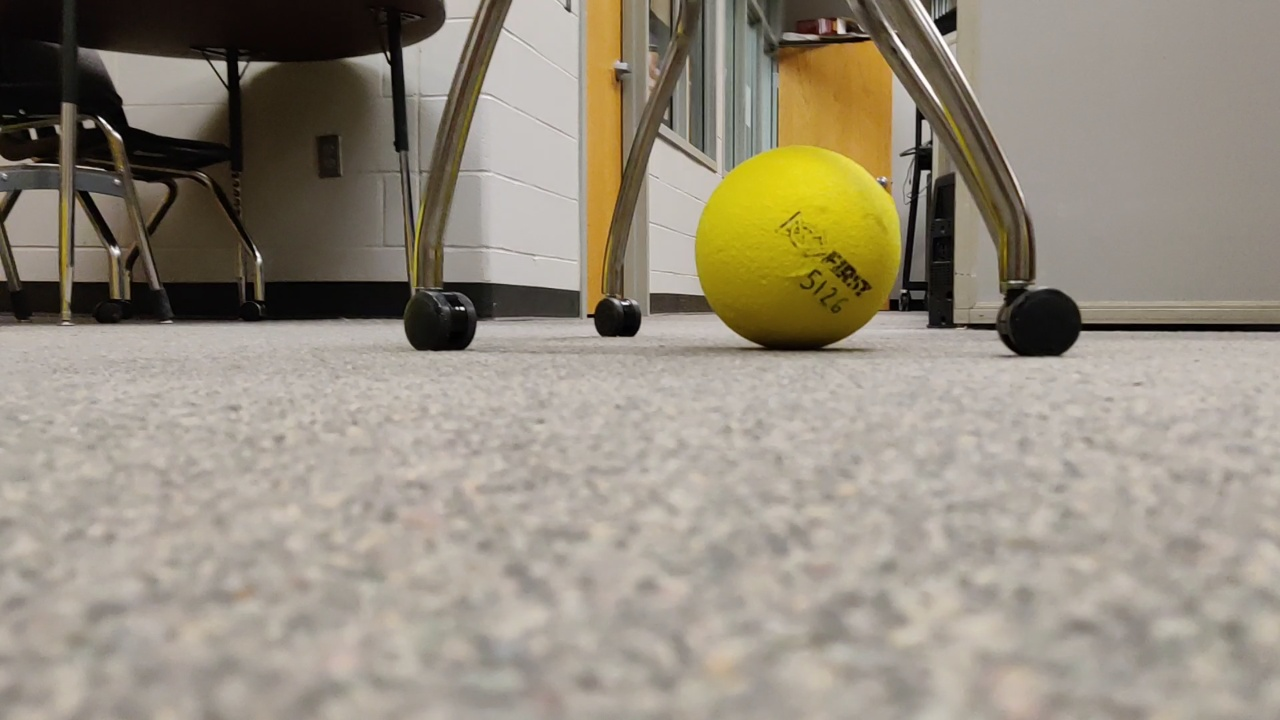Ball: (692, 145, 899, 350)
